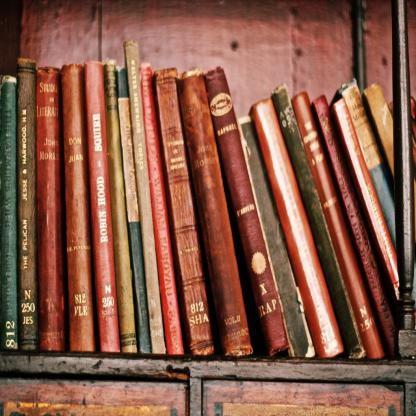book: (64, 60, 416, 393), (1, 59, 67, 360)
